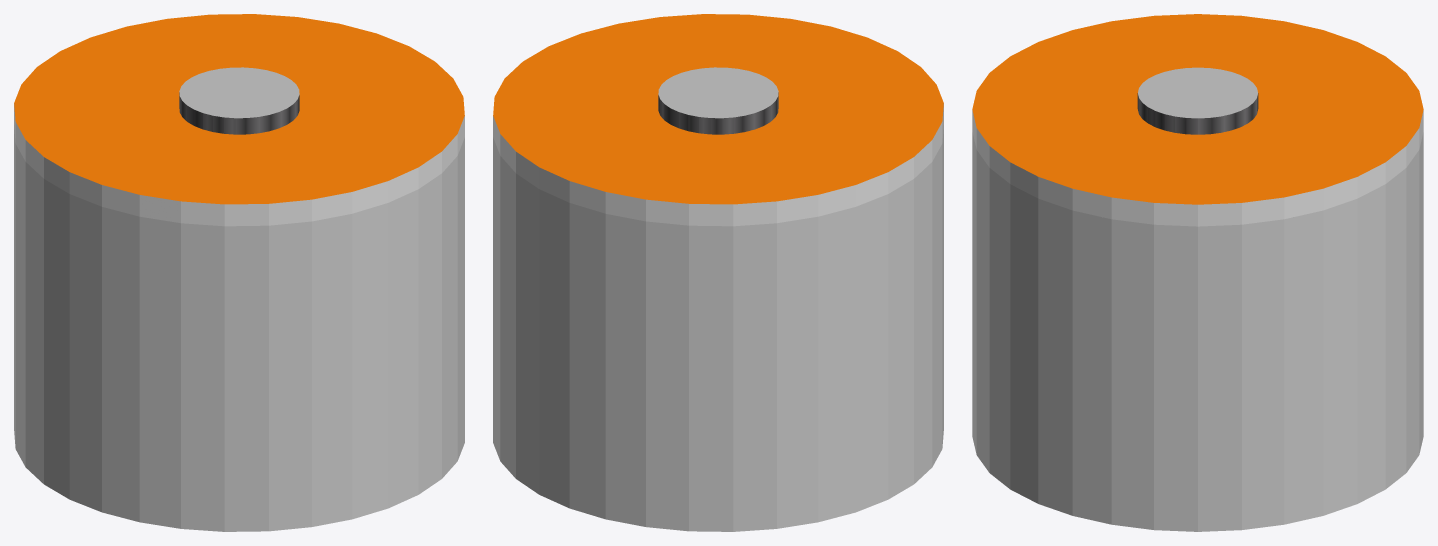
The model's file is giantVacuumRocket.dae.
The picture shows the model from 3 angles, left to right: view 1: azimuth 30°, elevation 25°; view 2: azimuth 150°, elevation 25°; view 3: azimuth 270°, elevation 25°; orthographic projection.
Visible parts, largest first — view 1: fairing, base, cluster; view 2: fairing, base, cluster; view 3: fairing, base, cluster.
Boxes of the visible parts, box(x1,y1,x2,y2) form: fairing: box(14, 125, 464, 531); base: box(14, 14, 464, 226); cluster: box(179, 67, 299, 134); fairing: box(493, 125, 943, 531); base: box(493, 14, 943, 226); cluster: box(658, 67, 778, 134); fairing: box(972, 132, 1423, 531); base: box(972, 14, 1423, 226); cluster: box(1137, 67, 1258, 134).
Size of the model in its own units: 3.75 by 3.75 by 3.15.
4 materials, 3 textured.
